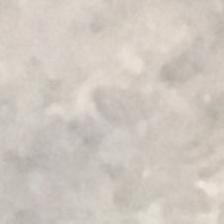Non_Crack: (9, 29, 220, 197)
